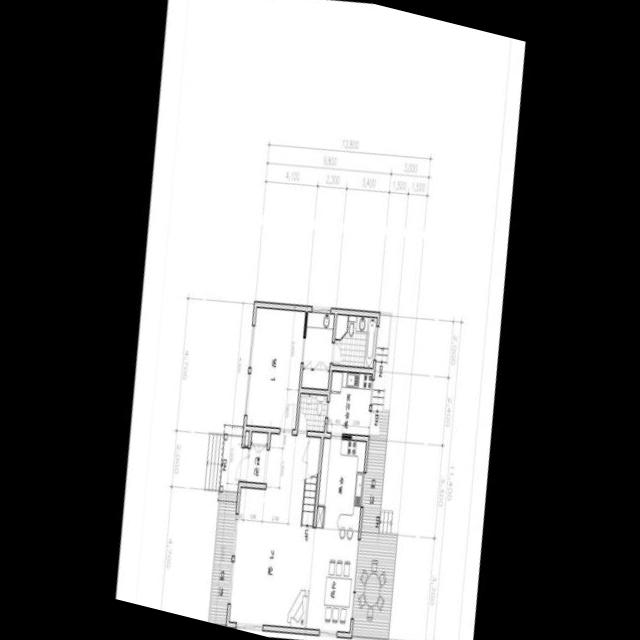background: (115, 0, 525, 640)
space_bedroom: (246, 307, 305, 429)
space_dressroom: (301, 312, 333, 389)
space_front: (246, 432, 267, 483)
space_kitchen: (305, 438, 365, 632), (326, 371, 371, 435)
space_living_room: (228, 433, 314, 628)
space_other: (305, 437, 320, 479), (244, 431, 248, 446)
space_staircase: (300, 473, 317, 528)
space_toilet: (332, 315, 376, 367), (297, 394, 326, 431)
